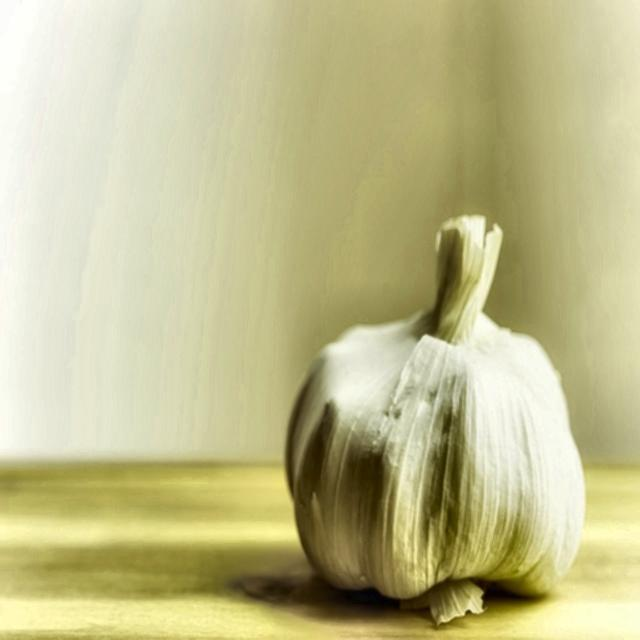garlic: (286, 216, 585, 622)
